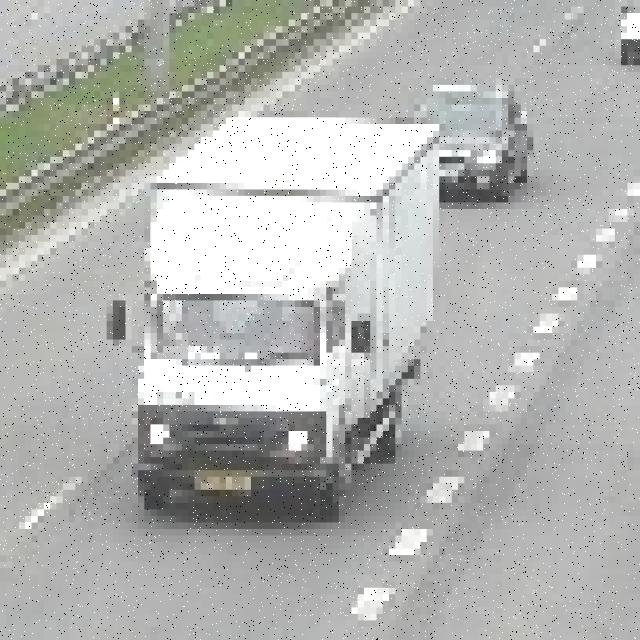truck: (100, 111, 433, 509)
